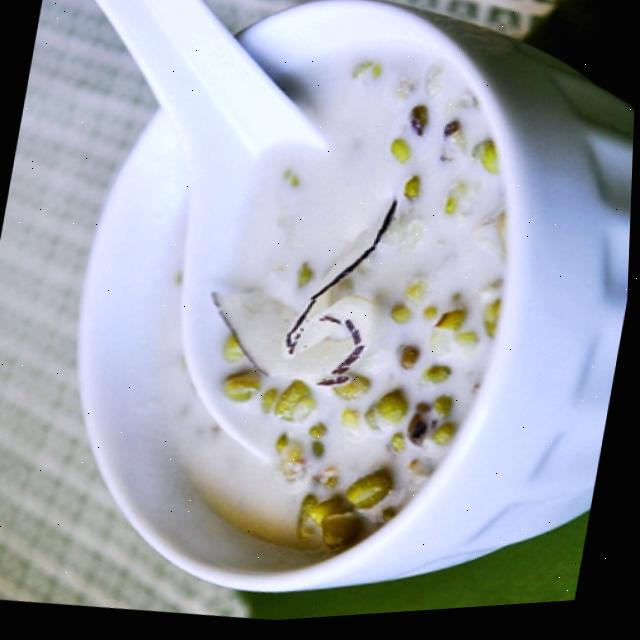汤锅炖物: (31, 0, 640, 637)
